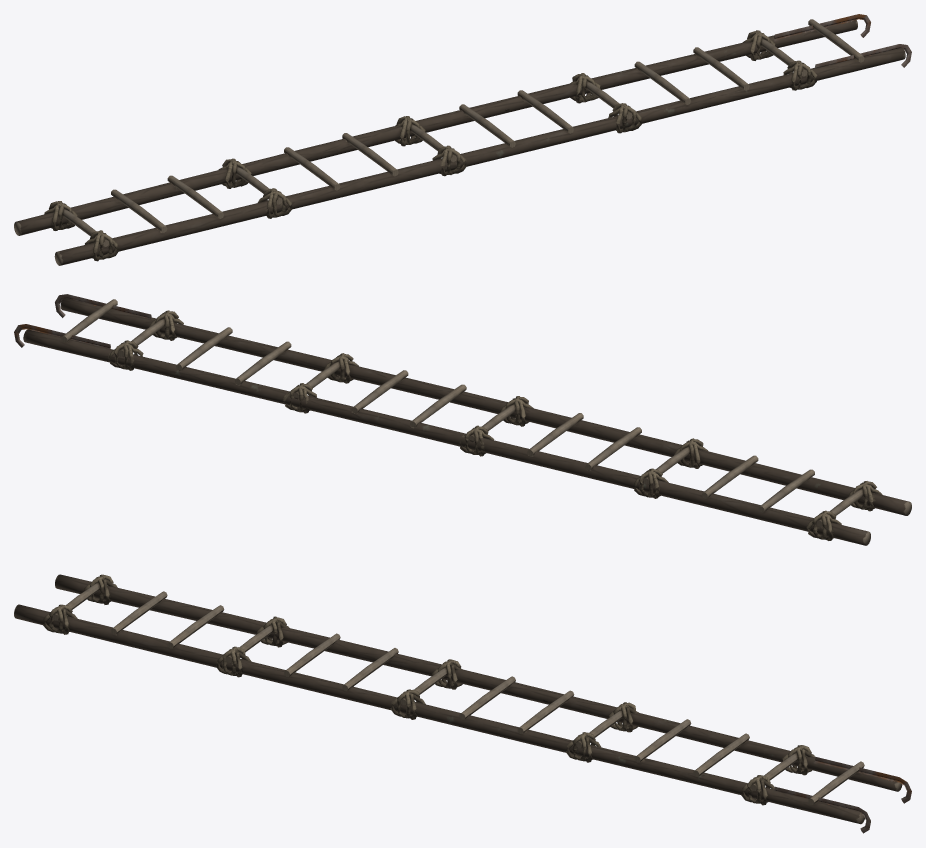
Rendered from SM_Camp_SiegeLadder.fbx.
The picture shows the model from 3 angles, top to bottom: view 1: azimuth 30°, elevation 25°; view 2: azimuth 150°, elevation 25°; view 3: azimuth 330°, elevation 25°; orthographic projection.
Visible parts, largest first — view 1: SM_Camp_SiegeLadder; view 2: SM_Camp_SiegeLadder; view 3: SM_Camp_SiegeLadder.
Part boxes in pixels (bbox=[...]): SM_Camp_SiegeLadder: bbox=[14, 14, 911, 265]; SM_Camp_SiegeLadder: bbox=[14, 294, 911, 545]; SM_Camp_SiegeLadder: bbox=[14, 574, 911, 833].
Bounding box in the file's own units: 507 × 54.28 × 17.71.
